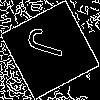J: (25, 25, 77, 63)
